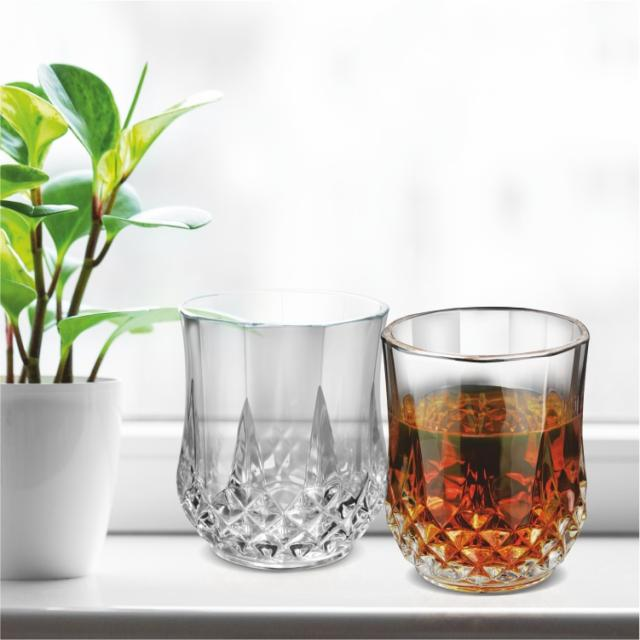glass: (161, 279, 401, 580), (384, 286, 603, 606)
